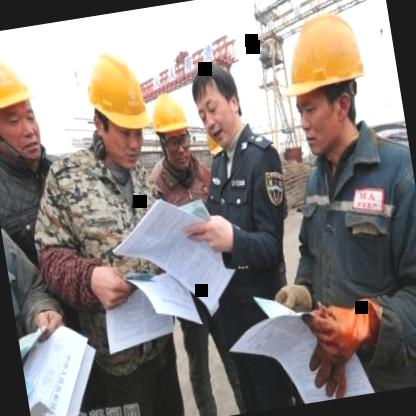head: (186, 56, 250, 150)
helmet: (267, 0, 382, 164), (70, 42, 158, 178), (0, 35, 48, 174), (141, 82, 202, 176)
